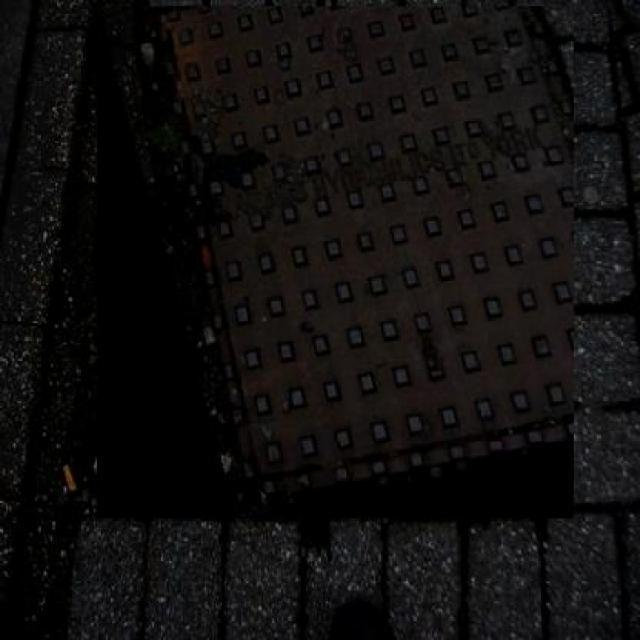Manhole: (97, 6, 574, 519)
